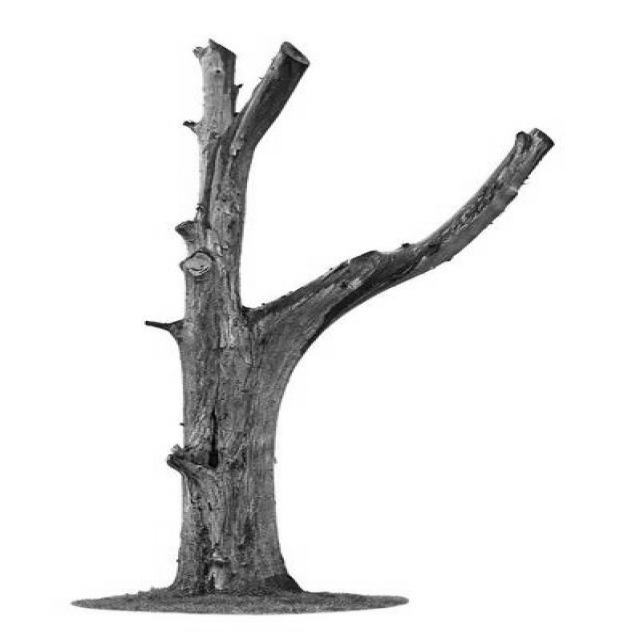Tree: (148, 40, 555, 597)
